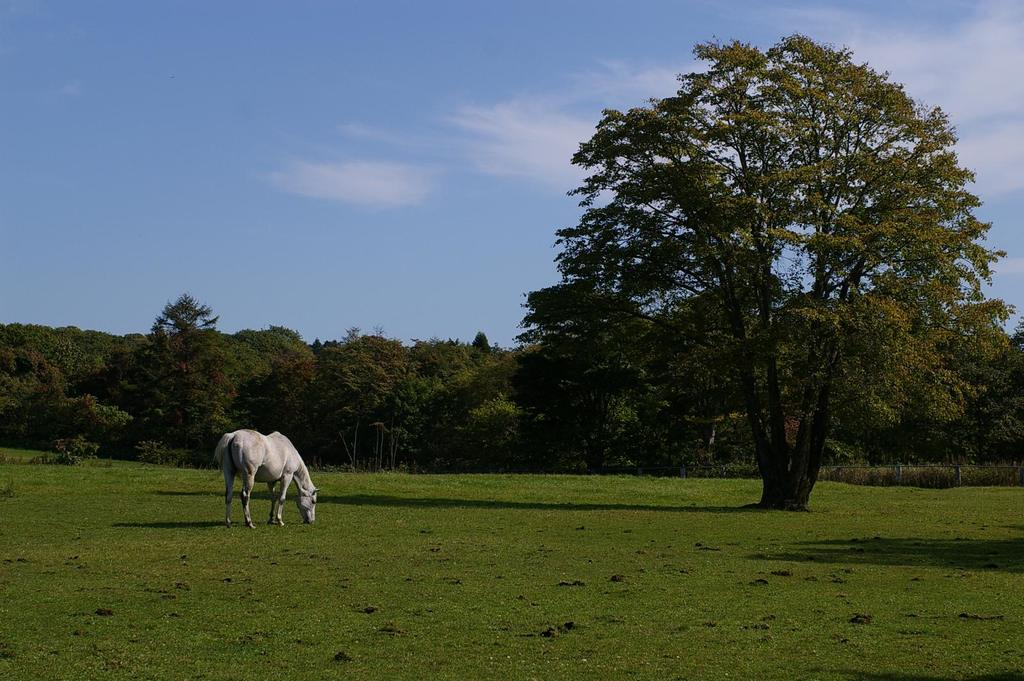horse: (209, 428, 321, 531)
